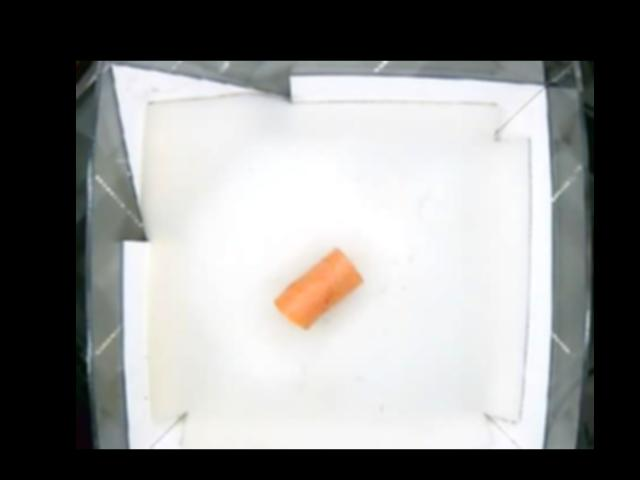Carrot: (272, 246, 364, 328)
